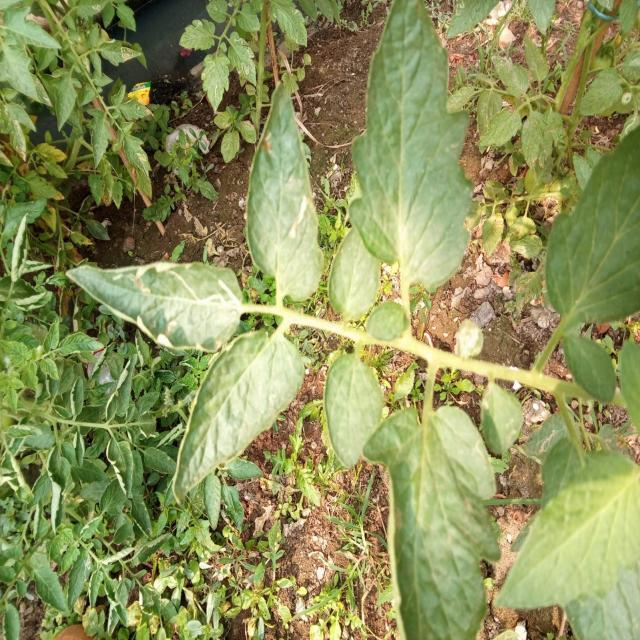Healthy: (357, 395, 524, 640), (135, 312, 320, 515), (348, 0, 477, 288), (545, 128, 640, 324), (315, 348, 394, 469)
